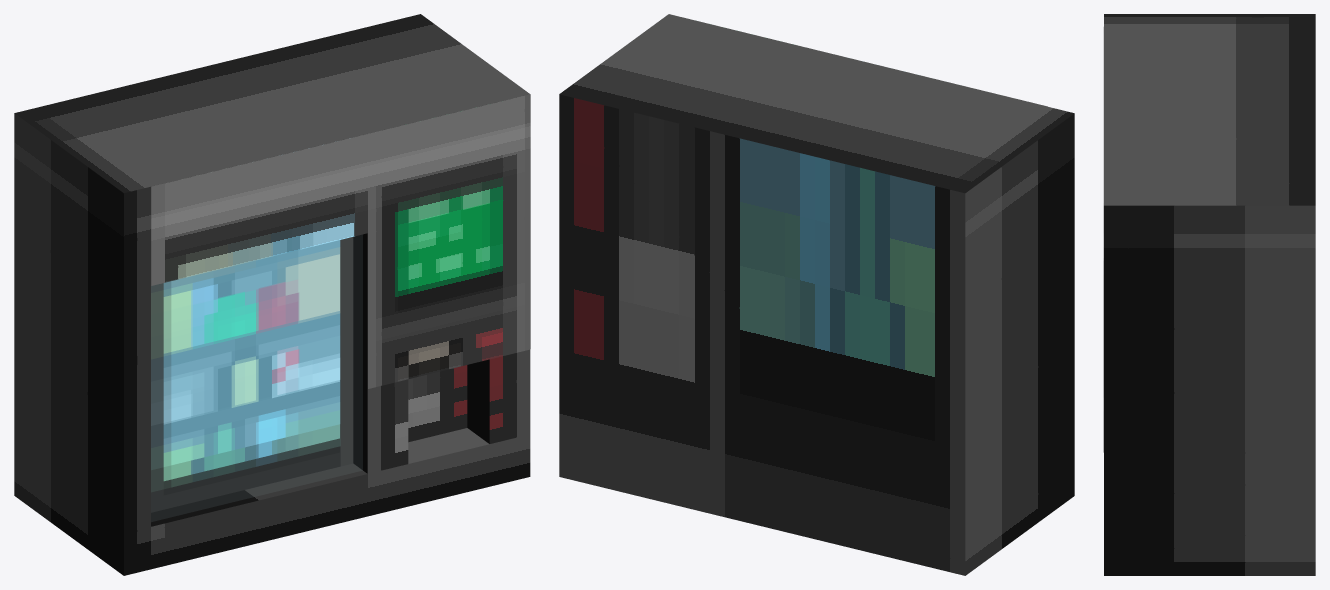
Rendered from vending_boozeomat.glb.
3 renders of one model, left to right at view 1: azimuth 30°, elevation 25°; view 2: azimuth 150°, elevation 25°; view 3: azimuth 270°, elevation 25°, orthographic. The views are drawn at different scales.
Parts seen in each view (by area): view 1: vending_boozeomat_Cabinet, vending_boozeomat, vending_boozeomat_Display_Glass, vending_boozeomat_Delivery_Flap; view 2: vending_boozeomat_Cabinet; view 3: vending_boozeomat_Cabinet, vending_boozeomat.
Boxes of the visible parts, x1,y1,x2,y2 form: vending_boozeomat_Cabinet: (14,14,530,575); vending_boozeomat: (151,94,530,512); vending_boozeomat_Display_Glass: (151,235,362,521); vending_boozeomat_Delivery_Flap: (408,365,467,442); vending_boozeomat_Cabinet: (559,14,1074,575); vending_boozeomat_Cabinet: (1104,14,1315,575); vending_boozeomat: (1103,27,1103,452).
Bounding box in the file's own units: 1.8 × 1.62 × 0.842.
Materials: 4 (3 with a texture image).
